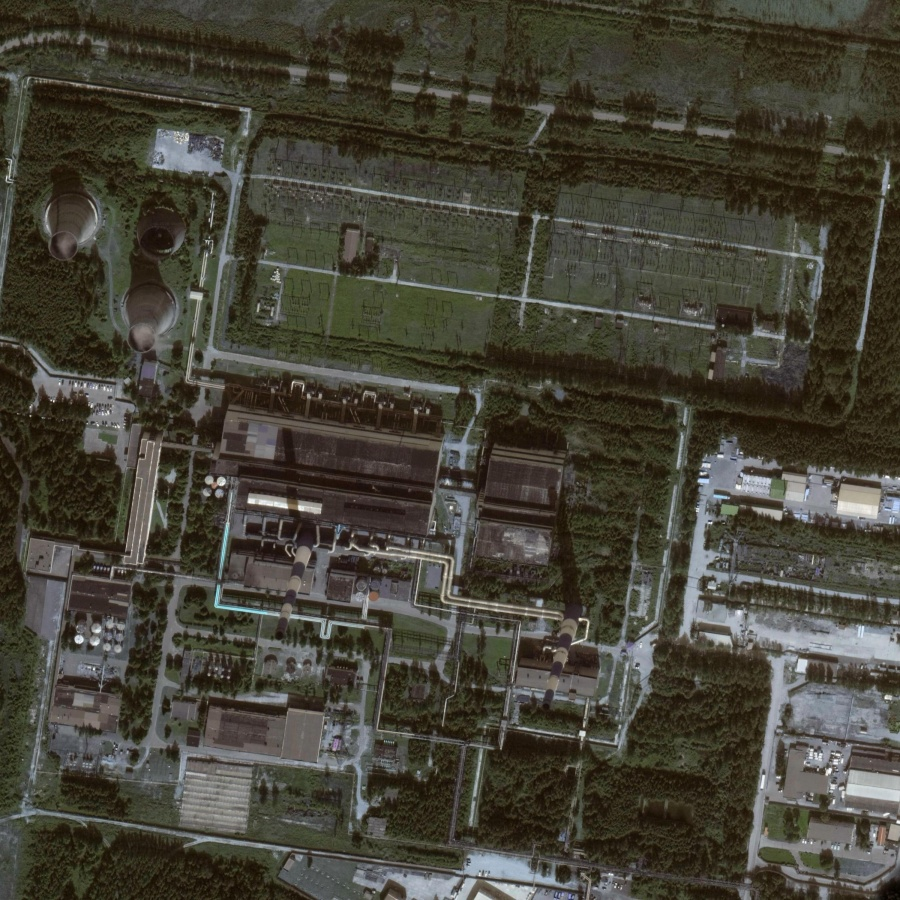PowerPlant: (228, 406, 586, 727), (17, 129, 216, 375)
